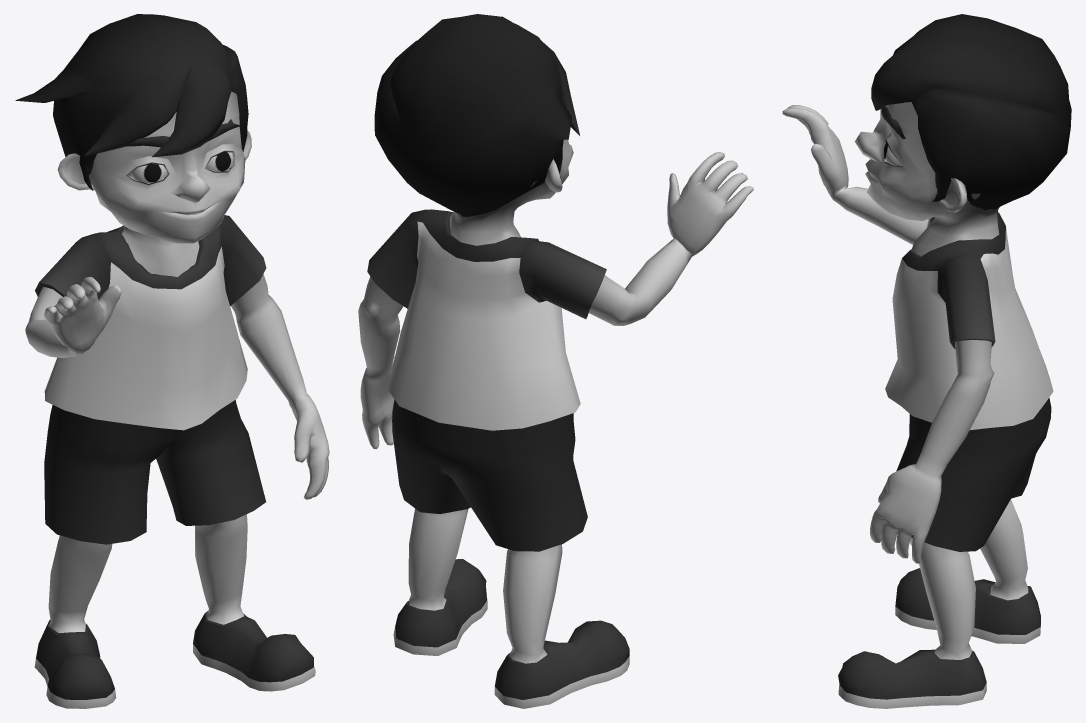
File: BradleyPose1.fbx
3 views of the same model, side by side, from view 1: azimuth 30°, elevation 25°; view 2: azimuth 150°, elevation 25°; view 3: azimuth 270°, elevation 25° (orthographic).
Parts seen in each view (by area): view 1: bodyMesh2; view 2: bodyMesh2; view 3: bodyMesh2.
Part boxes in pixels (x1,y1,x2,y2): bodyMesh2: [15, 14, 329, 708]; bodyMesh2: [358, 14, 753, 708]; bodyMesh2: [782, 14, 1071, 708].
Size of the model in its own units: 0.2366 by 0.4373 by 0.1787.
